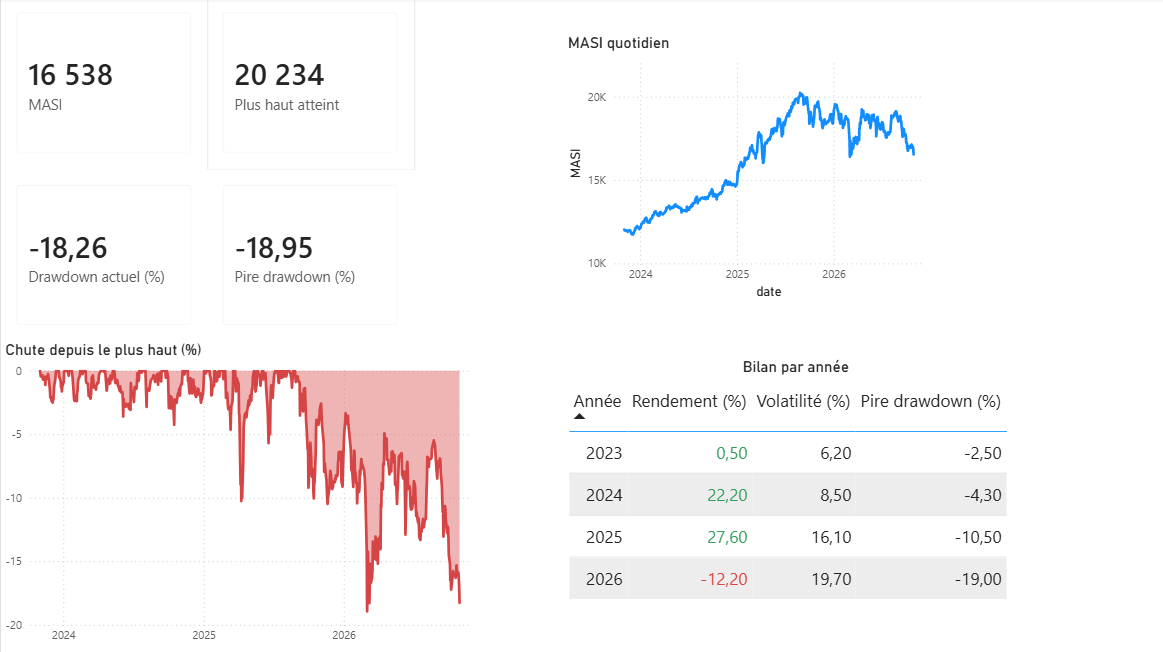

The page's visual inventory and layout, read from the dashboard file:
{"tool":"powerbi","page":{"name":"Marché actions","canvas":[1280,720],"ordinal":1},"visuals":[{"type":"cardVisual","fields":{"Data":["dw fact_masi_quotidien.MASI"]},"box":[0,0,226.8,189],"z":1},{"type":"cardVisual","fields":{"Data":["dw v_masi_drawdown.Plus haut atteint"]},"box":[226.8,0,226.8,189],"z":2},{"type":"cardVisual","fields":{"Data":["dw v_masi_drawdown.Pire drawdown (%)"]},"box":[226.8,189,226.8,189],"z":3},{"type":"cardVisual","fields":{"Data":["dw v_masi_drawdown.Drawdown actuel (%)"]},"box":[0,189,226.8,189],"z":4},{"type":"lineChart","title":"MASI quotidien","fields":{"Category":["dw dim_date.date"],"Y":["dw fact_masi_quotidien.MASI"]},"box":[618,39.7,402.5,296.7],"z":5},{"type":"areaChart","title":"Chute depuis le plus haut (%)","fields":{"Category":["dw dim_date.date"],"Y":["Avg(dw v_masi_drawdown.drawdown_pct)"]},"box":[0,378,521.6,342],"z":6},{"type":"tableEx","title":"Bilan par année","fields":{"Values":["dw v_masi_annuel.annee","dw v_masi_annuel.rendement_pct","dw v_masi_annuel.volatilite_annualisee_pct","dw v_masi_annuel.pire_drawdown_pct"]},"box":[618,395,510.2,285.4],"z":7}]}

Visuals, with their boxes in screenshot pixels (x1, y1, x2, y2), scaled from the page's 1280x720 canvas onto the 1163x652 screenshot:
cardVisual - dw fact_masi_quotidien.MASI: l=0, t=0, r=206, b=171
cardVisual - dw v_masi_drawdown.Plus haut atteint: l=206, t=0, r=412, b=171
cardVisual - dw v_masi_drawdown.Pire drawdown (%): l=206, t=171, r=412, b=342
cardVisual - dw v_masi_drawdown.Drawdown actuel (%): l=0, t=171, r=206, b=342
"MASI quotidien" lineChart: l=562, t=36, r=927, b=305
"Chute depuis le plus haut (%)" areaChart: l=0, t=342, r=474, b=651
"Bilan par année" tableEx: l=562, t=358, r=1025, b=616
